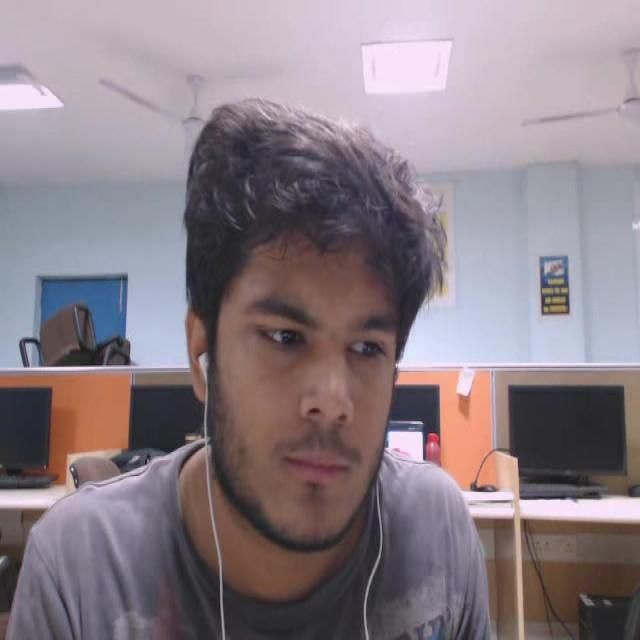Engaged: (161, 49, 468, 578)
